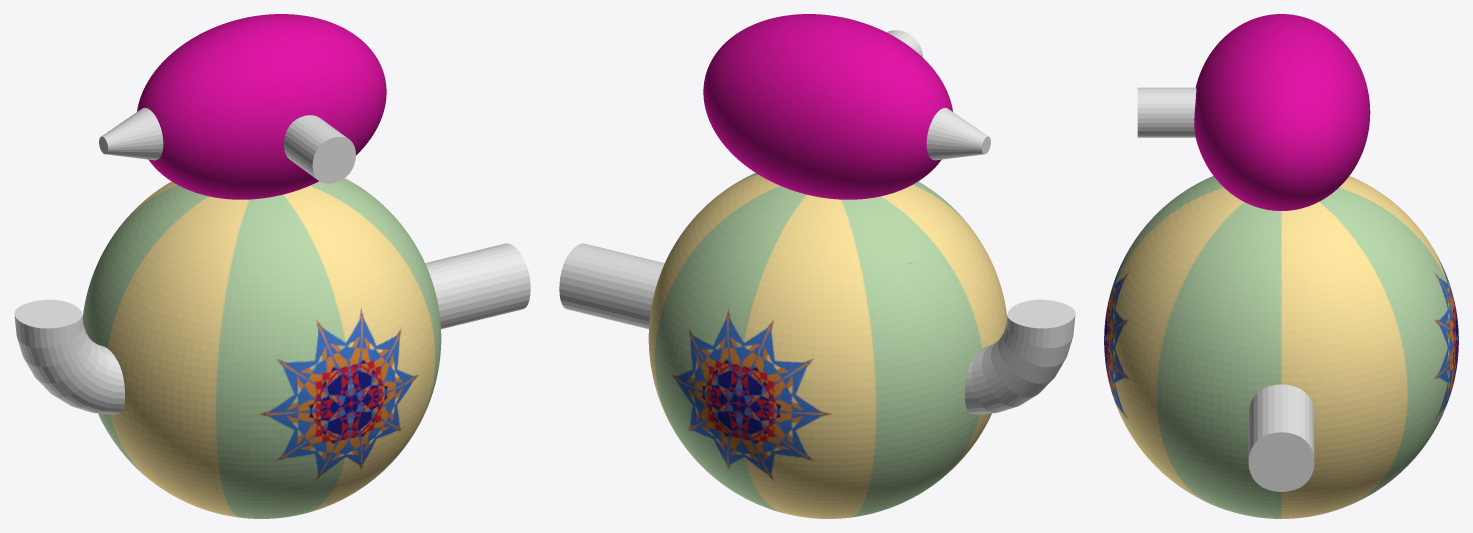
Rendered from BOD0_BMC14_BCC13_BPT2_FRC1_HEA1_HMC10_HCC10_HPT3_ELT2_ERT0_ELL1_ERL1_AP3_AAL1_AAR0_BEK1.fbx.
3 renders of one model, left to right at view 1: azimuth 30°, elevation 25°; view 2: azimuth 150°, elevation 25°; view 3: azimuth 270°, elevation 25°, orthographic.
Visible parts, largest first — view 1: Body, Arm.001, Arm, Beak, Ear; view 2: Body, Arm.001, Arm, Ear; view 3: Body, Arm, Beak.
Part boxes in pixels (box(x1,y1,x2,y2)): Body: box(82, 14, 441, 518); Arm.001: box(14, 299, 124, 414); Arm: box(425, 243, 530, 329); Beak: box(284, 115, 355, 183); Ear: box(99, 107, 163, 160); Body: box(648, 14, 1007, 518); Arm.001: box(965, 299, 1075, 414); Arm: box(559, 243, 664, 329); Ear: box(926, 107, 990, 160); Body: box(1104, 14, 1458, 518); Arm: box(1248, 384, 1314, 491); Beak: box(1137, 87, 1196, 137).
Bounding box in the file's own units: 78.31 × 72.41 × 49.36.
Materials: 1 (1 with a texture image).
